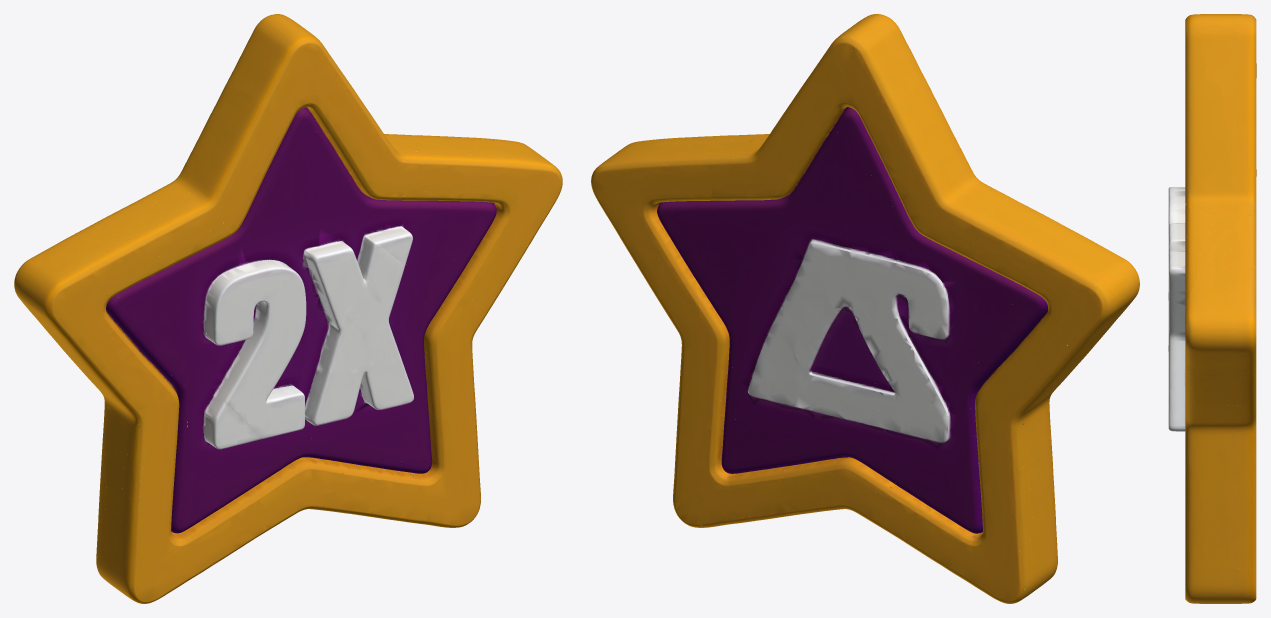
Rendered from prop_multiplier_2x.glb.
3 renders of one model, left to right at view 1: azimuth 30°, elevation 25°; view 2: azimuth 150°, elevation 25°; view 3: azimuth 270°, elevation 25°, orthographic. The views are drawn at different scales.
Visible parts, largest first — view 1: tripo_node_380888f1-54e2-4d98-95c1-c193c3abdf8f; view 2: tripo_node_380888f1-54e2-4d98-95c1-c193c3abdf8f; view 3: tripo_node_380888f1-54e2-4d98-95c1-c193c3abdf8f.
Boxes of the visible parts, x1,y1,x2,y2 form: tripo_node_380888f1-54e2-4d98-95c1-c193c3abdf8f: [14, 14, 562, 603]; tripo_node_380888f1-54e2-4d98-95c1-c193c3abdf8f: [591, 14, 1139, 603]; tripo_node_380888f1-54e2-4d98-95c1-c193c3abdf8f: [1168, 14, 1256, 603].
Size of the model in its own units: 0.98 by 0.9549 by 0.1487.
1 material, 1 textured.
